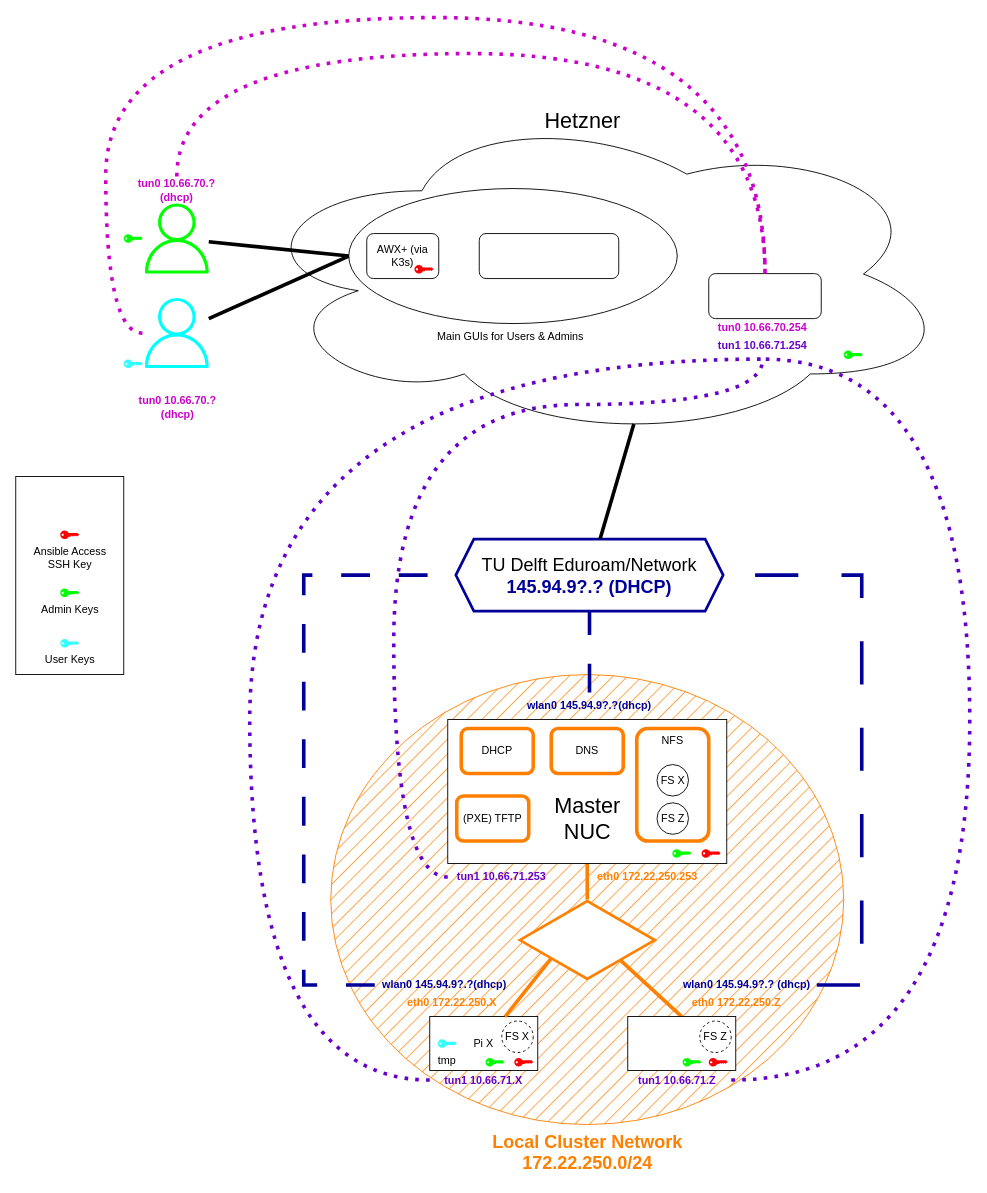
This 987x1193 diagram has some shape labels left out. The box of each missing label's shape, as (x1, y1, x2, y2) in pixels:
Admins: (141, 202, 212, 274)
Device Monitoring (uptime-kuma / cockpit / etc): (478, 233, 619, 279)
LEGEND: (15, 476, 124, 675)
Pi Z: (627, 1016, 736, 1071)
Switch: (518, 898, 656, 981)
VPN (OpenVPN) Servers: (708, 273, 821, 319)
